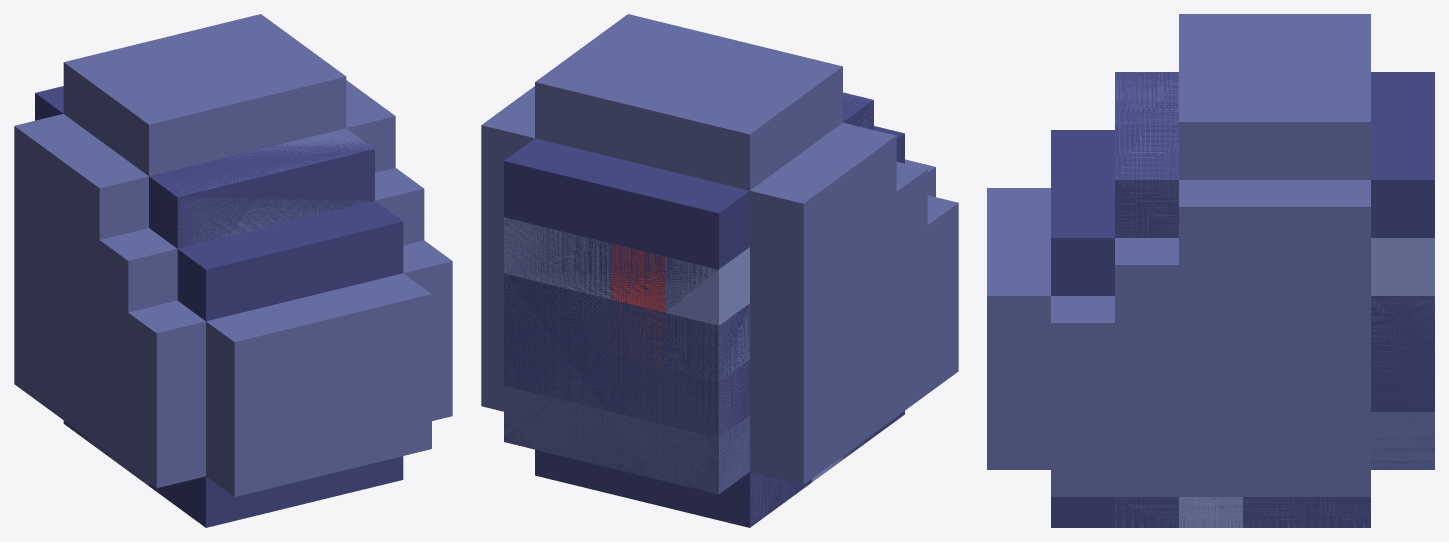
The model's file is walkhead.fbx.
The picture shows the model from 3 angles, left to right: view 1: azimuth 30°, elevation 25°; view 2: azimuth 150°, elevation 25°; view 3: azimuth 270°, elevation 25°; orthographic projection. The views are drawn at different scales.
Visible parts, largest first — view 1: Default_2, Default, Default_3, Default_5, Default_4; view 2: Default, Default_4, Default_5, Default_2, Default_3; view 3: Default, Default_2, Default_3, Default_5, Default_4.
Boxes of the visible parts, bbox=[...] form: Default_2: bbox=[42, 207, 452, 527]; Default: bbox=[14, 14, 395, 390]; Default_3: bbox=[42, 128, 424, 473]; Default_5: bbox=[14, 178, 148, 485]; Default_4: bbox=[14, 229, 151, 487]; Default: bbox=[481, 14, 896, 437]; Default_4: bbox=[481, 226, 927, 527]; Default_5: bbox=[481, 181, 896, 526]; Default_2: bbox=[781, 126, 958, 504]; Default_3: bbox=[781, 93, 927, 504]; Default: bbox=[1115, 14, 1434, 438]; Default_2: bbox=[987, 130, 1306, 527]; Default_3: bbox=[1051, 72, 1306, 527]; Default_5: bbox=[1179, 265, 1434, 527]; Default_4: bbox=[1115, 296, 1434, 527].
Bounding box in the file's own units: 6 × 7 × 7.
Materials: 5 (5 with a texture image).
